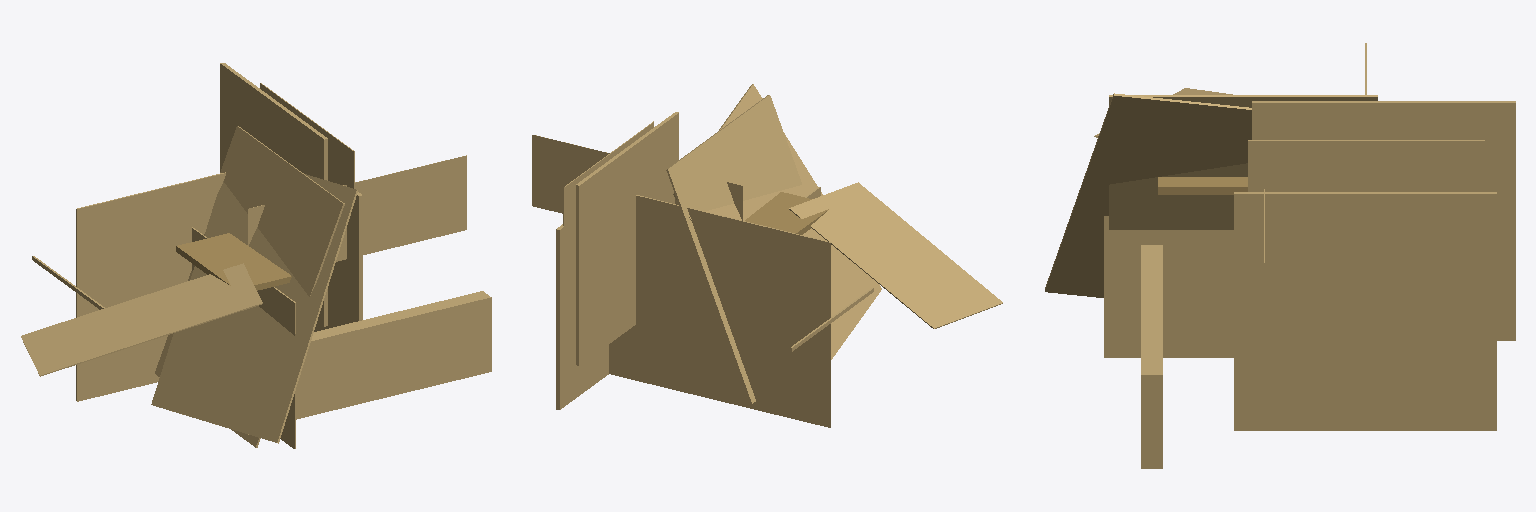
URDF robot description (evolved_design):
<?xml version="1.0" ?>
<robot name="evolved_design">
  <link name="base_link">
    <inertial>
      <mass value="0.001"/>
      <origin xyz="0 0 0" rpy="0 0 0"/>
      <inertia ixx="0.000001" ixy="0" ixz="0" iyy="0.000001" iyz="0" izz="0.000001"/>
    </inertial>
  </link>
  <link name="link_comp_0">
    <inertial>
      <mass value="0.838824"/>
      <origin xyz="0 0 0" rpy="0 0 0"/>
      <inertia ixx="0.039485466" ixy="0" ixz="0" iyy="0.015063259" iyz="0" izz="0.024425033"/>
    </inertial>
    <visual>
      <origin xyz="0 0 0" rpy="0 0 0"/>
      <geometry>
        <box size="0.004496 0.591099 0.464189"/>
      </geometry>
      <material name="link_comp_0_material">
        <color rgba="0.8 0.7 0.5 1"/>
      </material>
    </visual>
    <collision>
      <origin xyz="0 0 0" rpy="0 0 0"/>
      <geometry>
        <box size="0.004496 0.591099 0.464189"/>
      </geometry>
    </collision>
  </link>
  <joint name="base_link_to_link_comp_0" type="fixed">
    <parent link="base_link"/>
    <child link="link_comp_0"/>
    <origin xyz="0.002248 0.295550 0.232094" rpy="0.000000 0.000000 0.000000"/>
  </joint>
  <link name="link_comp_1">
    <inertial>
      <mass value="1.500321"/>
      <origin xyz="0 0 0" rpy="0 0 0"/>
      <inertia ixx="0.046464279" ixy="0" ixz="0" iyy="0.119057487" iyz="0" izz="0.072598849"/>
    </inertial>
    <visual>
      <origin xyz="0 0 0" rpy="0 0 0"/>
      <geometry>
        <box size="0.762000 0.004750 0.609600"/>
      </geometry>
      <material name="link_comp_1_material">
        <color rgba="0.8 0.7 0.5 1"/>
      </material>
    </visual>
    <collision>
      <origin xyz="0 0 0" rpy="0 0 0"/>
      <geometry>
        <box size="0.762000 0.004750 0.609600"/>
      </geometry>
    </collision>
  </link>
  <joint name="base_link_to_link_comp_1" type="fixed">
    <parent link="base_link"/>
    <child link="link_comp_1"/>
    <origin xyz="0.002716 0.593974 0.304800" rpy="0.000000 0.000000 0.000000"/>
  </joint>
  <link name="link_comp_2">
    <inertial>
      <mass value="0.026576"/>
      <origin xyz="0 0 0" rpy="0 0 0"/>
      <inertia ixx="0.000520471" ixy="0" ixz="0" iyy="0.000000446" iyz="0" izz="0.000520204"/>
    </inertial>
    <visual>
      <origin xyz="0 0 0" rpy="0 0 0"/>
      <geometry>
        <box size="0.006350 0.484616 0.012700"/>
      </geometry>
      <material name="link_comp_2_material">
        <color rgba="0.8 0.7 0.5 1"/>
      </material>
    </visual>
    <collision>
      <origin xyz="0 0 0" rpy="0 0 0"/>
      <geometry>
        <box size="0.006350 0.484616 0.012700"/>
      </geometry>
    </collision>
  </link>
  <joint name="base_link_to_link_comp_2" type="fixed">
    <parent link="base_link"/>
    <child link="link_comp_2"/>
    <origin xyz="-0.381959 0.594301 0.356754" rpy="0.000000 0.000000 0.000000"/>
  </joint>
  <link name="link_comp_3">
    <inertial>
      <mass value="0.667781"/>
      <origin xyz="0 0 0" rpy="0 0 0"/>
      <inertia ixx="0.036755775" ixy="0" ixz="0" iyy="0.020680131" iyz="0" izz="0.016076644"/>
    </inertial>
    <visual>
      <origin xyz="0 0 0" rpy="0 0 0"/>
      <geometry>
        <box size="0.002997 0.537483 0.609600"/>
      </geometry>
      <material name="link_comp_3_material">
        <color rgba="0.8 0.7 0.5 1"/>
      </material>
    </visual>
    <collision>
      <origin xyz="0 0 0" rpy="0 0 0"/>
      <geometry>
        <box size="0.002997 0.537483 0.609600"/>
      </geometry>
    </collision>
  </link>
  <joint name="base_link_to_link_comp_3" type="fixed">
    <parent link="base_link"/>
    <child link="link_comp_3"/>
    <origin xyz="0.385714 0.594703 0.416882" rpy="0.000000 0.000000 0.000000"/>
  </joint>
  <link name="link_comp_4">
    <inertial>
      <mass value="0.434203"/>
      <origin xyz="0 0 0" rpy="0 0 0"/>
      <inertia ixx="0.002761186" ixy="0" ixz="0" iyy="0.016445115" iyz="0" izz="0.019205450"/>
    </inertial>
    <visual>
      <origin xyz="0 0 0" rpy="0 0 0"/>
      <geometry>
        <box size="0.674151 0.276222 0.003429"/>
      </geometry>
      <material name="link_comp_4_material">
        <color rgba="0.8 0.7 0.5 1"/>
      </material>
    </visual>
    <collision>
      <origin xyz="0 0 0" rpy="0 0 0"/>
      <geometry>
        <box size="0.674151 0.276222 0.003429"/>
      </geometry>
    </collision>
  </link>
  <joint name="base_link_to_link_comp_4" type="fixed">
    <parent link="base_link"/>
    <child link="link_comp_4"/>
    <origin xyz="-0.382815 0.213382 0.413080" rpy="0.000000 -0.253033 -0.321895"/>
  </joint>
  <link name="link_comp_5">
    <inertial>
      <mass value="0.116365"/>
      <origin xyz="0 0 0" rpy="0 0 0"/>
      <inertia ixx="0.000540517" ixy="0" ixz="0" iyy="0.005635044" iyz="0" izz="0.005094546"/>
    </inertial>
    <visual>
      <origin xyz="0 0 0" rpy="0 0 0"/>
      <geometry>
        <box size="0.724823 0.001000 0.236092"/>
      </geometry>
      <material name="link_comp_5_material">
        <color rgba="0.8 0.7 0.5 1"/>
      </material>
    </visual>
    <collision>
      <origin xyz="0 0 0" rpy="0 0 0"/>
      <geometry>
        <box size="0.724823 0.001000 0.236092"/>
      </geometry>
    </collision>
  </link>
  <joint name="base_link_to_link_comp_5" type="fixed">
    <parent link="base_link"/>
    <child link="link_comp_5"/>
    <origin xyz="0.419538 0.364145 0.483757" rpy="0.000000 0.000000 0.000000"/>
  </joint>
  <link name="link_comp_6">
    <inertial>
      <mass value="3.057755"/>
      <origin xyz="0 0 0" rpy="0 0 0"/>
      <inertia ixx="0.180447841" ixy="0" ixz="0" iyy="0.089643326" iyz="0" izz="0.090886713"/>
    </inertial>
    <visual>
      <origin xyz="0 0 0" rpy="0 0 0"/>
      <geometry>
        <box size="0.012700 0.597092 0.592992"/>
      </geometry>
      <material name="link_comp_6_material">
        <color rgba="0.8 0.7 0.5 1"/>
      </material>
    </visual>
    <collision>
      <origin xyz="0 0 0" rpy="0 0 0"/>
      <geometry>
        <box size="0.012700 0.597092 0.592992"/>
      </geometry>
    </collision>
  </link>
  <joint name="base_link_to_link_comp_6" type="fixed">
    <parent link="base_link"/>
    <child link="link_comp_6"/>
    <origin xyz="0.390566 0.593625 0.296496" rpy="0.000000 0.000000 0.000000"/>
  </joint>
  <link name="link_comp_7">
    <inertial>
      <mass value="2.005777"/>
      <origin xyz="0 0 0" rpy="0 0 0"/>
      <inertia ixx="0.159167763" ixy="0" ixz="0" iyy="0.097060254" iyz="0" izz="0.062120989"/>
    </inertial>
    <visual>
      <origin xyz="0 0 0" rpy="0 0 0"/>
      <geometry>
        <box size="0.006350 0.609600 0.762000"/>
      </geometry>
      <material name="link_comp_7_material">
        <color rgba="0.8 0.7 0.5 1"/>
      </material>
    </visual>
    <collision>
      <origin xyz="0 0 0" rpy="0 0 0"/>
      <geometry>
        <box size="0.006350 0.609600 0.762000"/>
      </geometry>
    </collision>
  </link>
  <joint name="base_link_to_link_comp_7" type="fixed">
    <parent link="base_link"/>
    <child link="link_comp_7"/>
    <origin xyz="0.008171 0.242731 0.381000" rpy="-0.193636 0.500000 0.028254"/>
  </joint>
  <link name="link_comp_8">
    <inertial>
      <mass value="1.105250"/>
      <origin xyz="0 0 0" rpy="0 0 0"/>
      <inertia ixx="0.010932444" ixy="0" ixz="0" iyy="0.005699530" iyz="0" izz="0.016565124"/>
    </inertial>
    <visual>
      <origin xyz="0 0 0" rpy="0 0 0"/>
      <geometry>
        <box size="0.248029 0.343997 0.019050"/>
      </geometry>
      <material name="link_comp_8_material">
        <color rgba="0.7 0.6 0.4 1"/>
      </material>
    </visual>
    <collision>
      <origin xyz="0 0 0" rpy="0 0 0"/>
      <geometry>
        <box size="0.248029 0.343997 0.019050"/>
      </geometry>
    </collision>
  </link>
  <joint name="base_link_to_link_comp_8" type="fixed">
    <parent link="base_link"/>
    <child link="link_comp_8"/>
    <origin xyz="0.002248 0.295550 0.474214" rpy="0.000000 0.000000 0.000000"/>
  </joint>
  <link name="link_comp_9">
    <inertial>
      <mass value="5.753692"/>
      <origin xyz="0 0 0" rpy="0 0 0"/>
      <inertia ixx="0.027924230" ixy="0" ixz="0" iyy="0.273068211" iyz="0" izz="0.247541353"/>
    </inertial>
    <visual>
      <origin xyz="0 0 0" rpy="0 0 0"/>
      <geometry>
        <box size="0.716782 0.050000 0.236092"/>
      </geometry>
      <material name="link_comp_9_material">
        <color rgba="0.8 0.7 0.5 1"/>
      </material>
    </visual>
    <collision>
      <origin xyz="0 0 0" rpy="0 0 0"/>
      <geometry>
        <box size="0.716782 0.050000 0.236092"/>
      </geometry>
    </collision>
  </link>
  <joint name="base_link_to_link_comp_9" type="fixed">
    <parent link="base_link"/>
    <child link="link_comp_9"/>
    <origin xyz="0.342576 0.110081 0.165924" rpy="0.000000 0.000000 0.000000"/>
  </joint>
  <link name="link_comp_10">
    <inertial>
      <mass value="2.005777"/>
      <origin xyz="0 0 0" rpy="0 0 0"/>
      <inertia ixx="0.159167763" ixy="0" ixz="0" iyy="0.097060254" iyz="0" izz="0.062120989"/>
    </inertial>
    <visual>
      <origin xyz="0 0 0" rpy="0 0 0"/>
      <geometry>
        <box size="0.006350 0.609600 0.762000"/>
      </geometry>
      <material name="link_comp_10_material">
        <color rgba="0.8 0.7 0.5 1"/>
      </material>
    </visual>
    <collision>
      <origin xyz="0 0 0" rpy="0 0 0"/>
      <geometry>
        <box size="0.006350 0.609600 0.762000"/>
      </geometry>
    </collision>
  </link>
  <joint name="base_link_to_link_comp_10" type="fixed">
    <parent link="base_link"/>
    <child link="link_comp_10"/>
    <origin xyz="0.025613 0.316287 0.381000" rpy="0.000000 0.390684 0.000000"/>
  </joint>
  <link name="link_comp_11">
    <inertial>
      <mass value="3.057755"/>
      <origin xyz="0 0 0" rpy="0 0 0"/>
      <inertia ixx="0.180447841" ixy="0" ixz="0" iyy="0.089643326" iyz="0" izz="0.090886713"/>
    </inertial>
    <visual>
      <origin xyz="0 0 0" rpy="0 0 0"/>
      <geometry>
        <box size="0.012700 0.597092 0.592992"/>
      </geometry>
      <material name="link_comp_11_material">
        <color rgba="0.8 0.7 0.5 1"/>
      </material>
    </visual>
    <collision>
      <origin xyz="0 0 0" rpy="0 0 0"/>
      <geometry>
        <box size="0.012700 0.597092 0.592992"/>
      </geometry>
    </collision>
  </link>
  <joint name="base_link_to_link_comp_11" type="fixed">
    <parent link="base_link"/>
    <child link="link_comp_11"/>
    <origin xyz="0.298722 0.634461 0.480491" rpy="0.000000 0.000000 0.000000"/>
  </joint>
</robot>

--- Facts derived from the render (not from the file) ---
The picture shows the robot from 3 angles, left to right: view 1: azimuth 30°, elevation 25°; view 2: azimuth 150°, elevation 25°; view 3: azimuth 270°, elevation 25°; orthographic projection.
Robot: evolved_design — 13 links, 12 joints (12 fixed); root link base_link; default pose: every joint at zero.
Visible links, largest first — view 1: link_comp_7, link_comp_1, link_comp_9, link_comp_4, link_comp_10, link_comp_5, link_comp_11, link_comp_3, link_comp_8, link_comp_0, link_comp_6; view 2: link_comp_1, link_comp_11, link_comp_4, link_comp_10, link_comp_7, link_comp_5, link_comp_6, link_comp_3, link_comp_8; view 3: link_comp_6, link_comp_7, link_comp_11, link_comp_0, link_comp_3, link_comp_10, link_comp_9, link_comp_8.
Link boxes in pixels (x1,y1,x2,y2): link_comp_7: [151, 174, 357, 443]; link_comp_1: [76, 172, 225, 401]; link_comp_9: [296, 291, 491, 419]; link_comp_4: [21, 263, 262, 376]; link_comp_10: [155, 126, 344, 447]; link_comp_5: [248, 155, 466, 261]; link_comp_11: [220, 63, 327, 326]; link_comp_3: [260, 83, 354, 327]; link_comp_8: [176, 233, 291, 290]; link_comp_0: [192, 227, 295, 448]; link_comp_6: [314, 192, 362, 331]; link_comp_1: [609, 195, 830, 427]; link_comp_11: [576, 112, 678, 365]; link_comp_4: [789, 182, 1002, 328]; link_comp_10: [666, 95, 853, 403]; link_comp_7: [673, 84, 881, 359]; link_comp_5: [532, 135, 742, 220]; link_comp_6: [556, 224, 608, 409]; link_comp_3: [563, 121, 653, 372]; link_comp_8: [745, 192, 828, 234]; link_comp_6: [1234, 192, 1496, 430]; link_comp_7: [1045, 93, 1251, 297]; link_comp_11: [1252, 101, 1515, 340]; link_comp_0: [1104, 216, 1233, 357]; link_comp_3: [1248, 140, 1484, 191]; link_comp_10: [1109, 95, 1377, 229]; link_comp_9: [1141, 245, 1162, 468]; link_comp_8: [1158, 177, 1247, 194].
Bounding box of the posed robot: 1.52 × 1.07 × 0.7771 m (x, y, z).
Geometry: primitives only (box / cylinder / sphere), no mesh files.